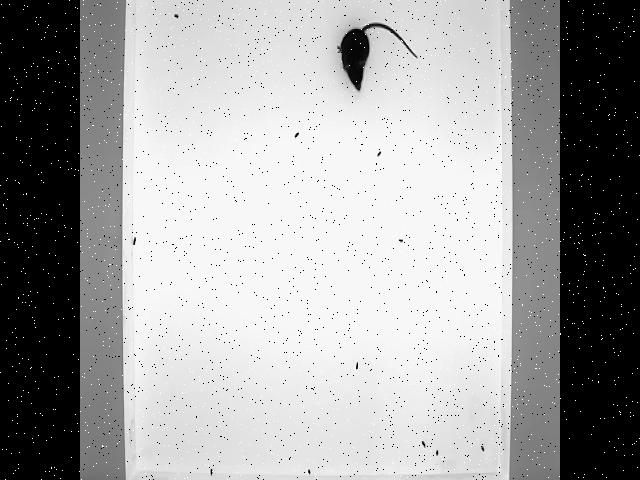Tikus: (336, 22, 418, 90)
